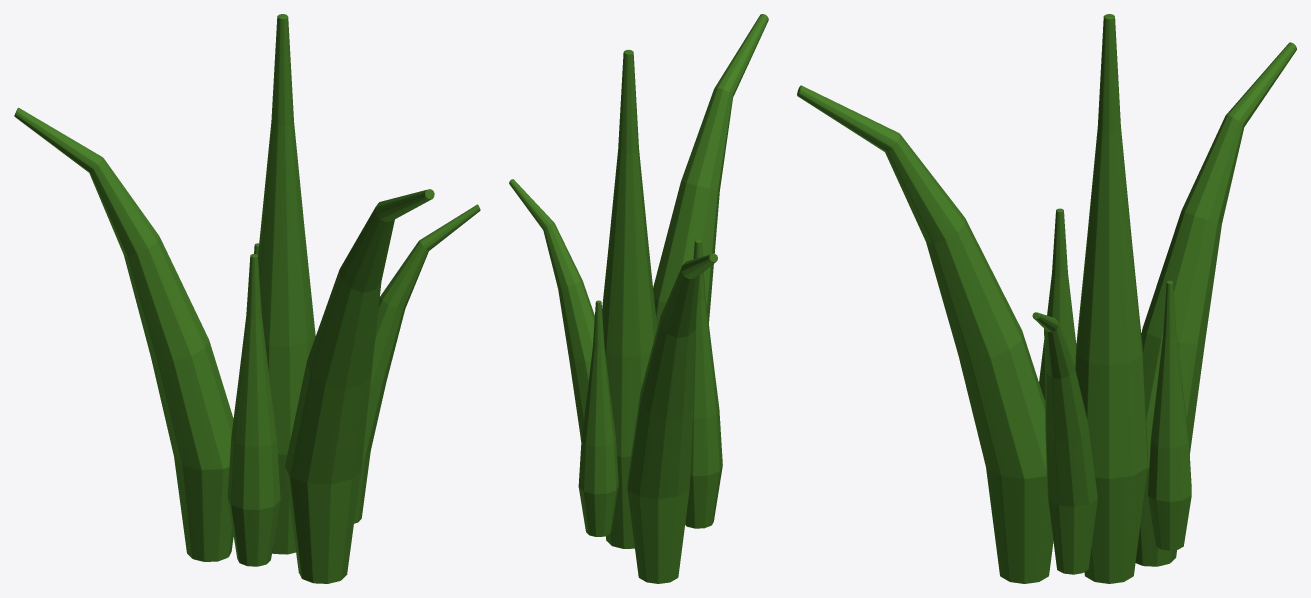
Rendered from grass.fbx.
3 views of the same model, side by side, from view 1: azimuth 30°, elevation 25°; view 2: azimuth 150°, elevation 25°; view 3: azimuth 270°, elevation 25° (orthographic). The views are drawn at different scales.
Visible parts, largest first — view 1: grass1, grass3, grass, grass2, grass5; view 2: grass3, grass, grass1, grass4, grass2, grass5; view 3: grass1, grass, grass3, grass5, grass4, grass2.
Part boxes in pixels (box(x1,y1,x2,y2)): grass1: box(285, 189, 434, 583); grass3: box(14, 107, 233, 561); grass: box(258, 14, 315, 554); grass2: box(227, 254, 280, 566); grass5: box(354, 204, 480, 523); grass3: box(627, 253, 717, 583); grass: box(602, 49, 657, 548); grass1: box(653, 14, 768, 327); grass4: box(578, 300, 618, 536); grass2: box(685, 239, 722, 528); grass5: box(509, 179, 594, 441); grass1: box(797, 85, 1053, 583); grass: box(1075, 14, 1147, 583); grass3: box(1135, 42, 1296, 566); grass5: box(1032, 312, 1097, 574); grass4: box(1148, 280, 1191, 550); grass2: box(1039, 208, 1076, 400).
Bounding box in the file's own units: 0.2098 × 0.3133 × 0.2496.
